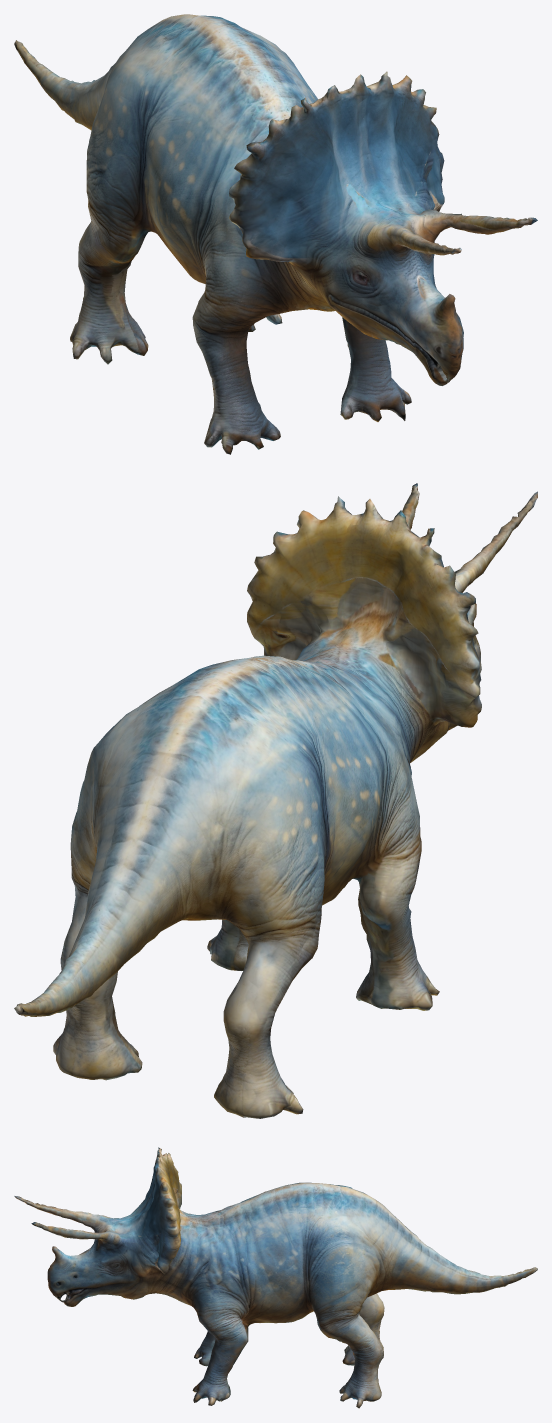
The model's file is triceratops.glb.
The picture shows the model from 3 angles, top to bottom: view 1: azimuth 30°, elevation 25°; view 2: azimuth 150°, elevation 25°; view 3: azimuth 270°, elevation 25°; orthographic projection. The views are drawn at different scales.
Visible parts, largest first — view 1: Mesh_0_Material_0_0; view 2: Mesh_0_Material_0_0; view 3: Mesh_0_Material_0_0.
Part boxes in pixels (left/top/right/bottom): Mesh_0_Material_0_0: left=14, top=14, right=537, bottom=454; Mesh_0_Material_0_0: left=14, top=483, right=537, bottom=1118; Mesh_0_Material_0_0: left=14, top=1147, right=537, bottom=1408.
Bounding box in the file's own units: 0.3324 × 0.5692 × 1.2.
1 material, 1 textured.
